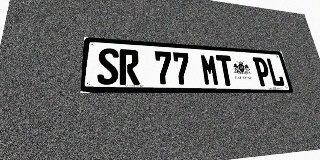7: (153, 51, 174, 85), (172, 52, 192, 86)
L: (266, 58, 285, 86)
M: (200, 54, 220, 86)
P: (252, 57, 272, 86)
R: (119, 49, 140, 85)
S: (97, 48, 119, 85)
T: (215, 55, 236, 86)
